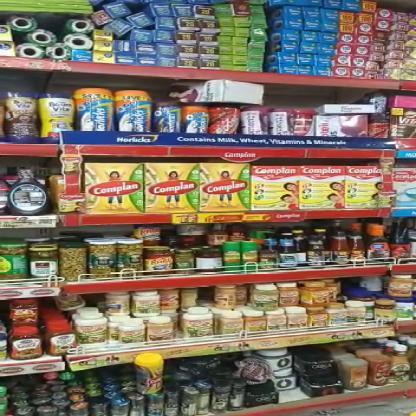Complan Pista Badam: (88, 164, 145, 213), (147, 163, 198, 210), (198, 163, 248, 210), (254, 167, 300, 210), (300, 166, 344, 208), (347, 166, 382, 206)
